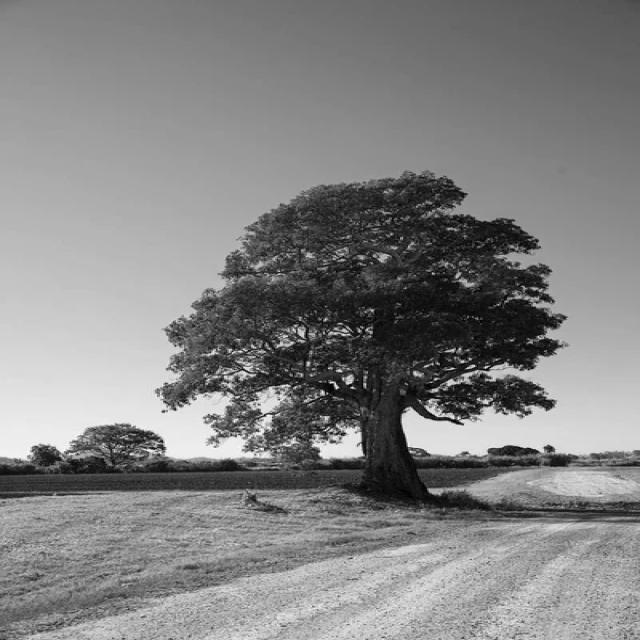Tree: (157, 172, 565, 501)
